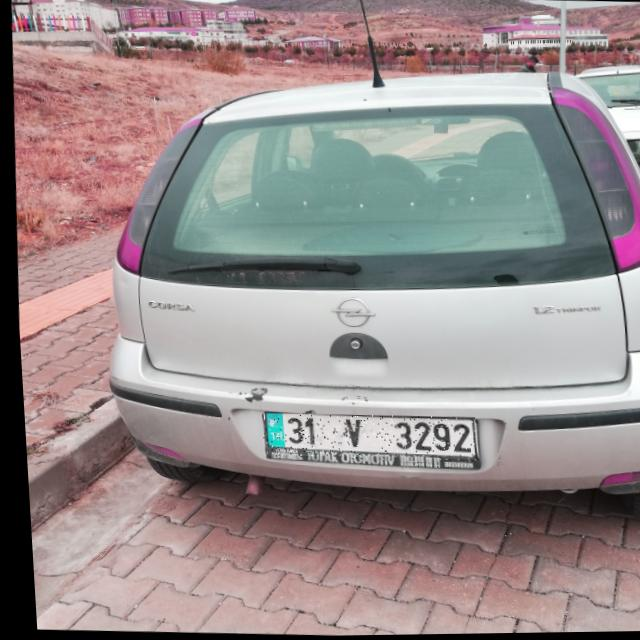license_plate: (255, 412, 471, 465)
